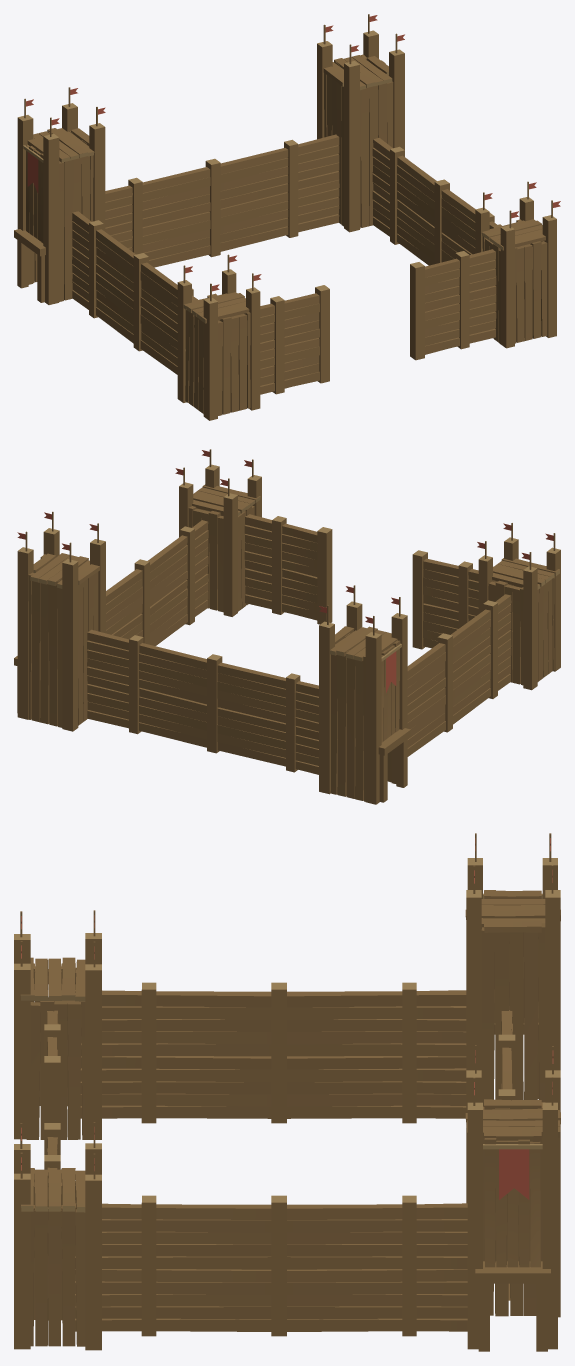
File: wooden-encampment.glb
3 renders of one model, top to bottom at view 1: azimuth 30°, elevation 25°; view 2: azimuth 150°, elevation 25°; view 3: azimuth 270°, elevation 25°, orthographic. The views are drawn at different scales.
Parts seen in each view (by area): view 1: WonderWalls_FirstAge; view 2: WonderWalls_FirstAge; view 3: WonderWalls_FirstAge.
Boxes of the visible parts, <box> form: WonderWalls_FirstAge: <box>14,14,560,420</box>; WonderWalls_FirstAge: <box>14,449,560,804</box>; WonderWalls_FirstAge: <box>14,833,560,1351</box>.
Bounding box in the file's own units: 2.2 × 1.07 × 1.95.
